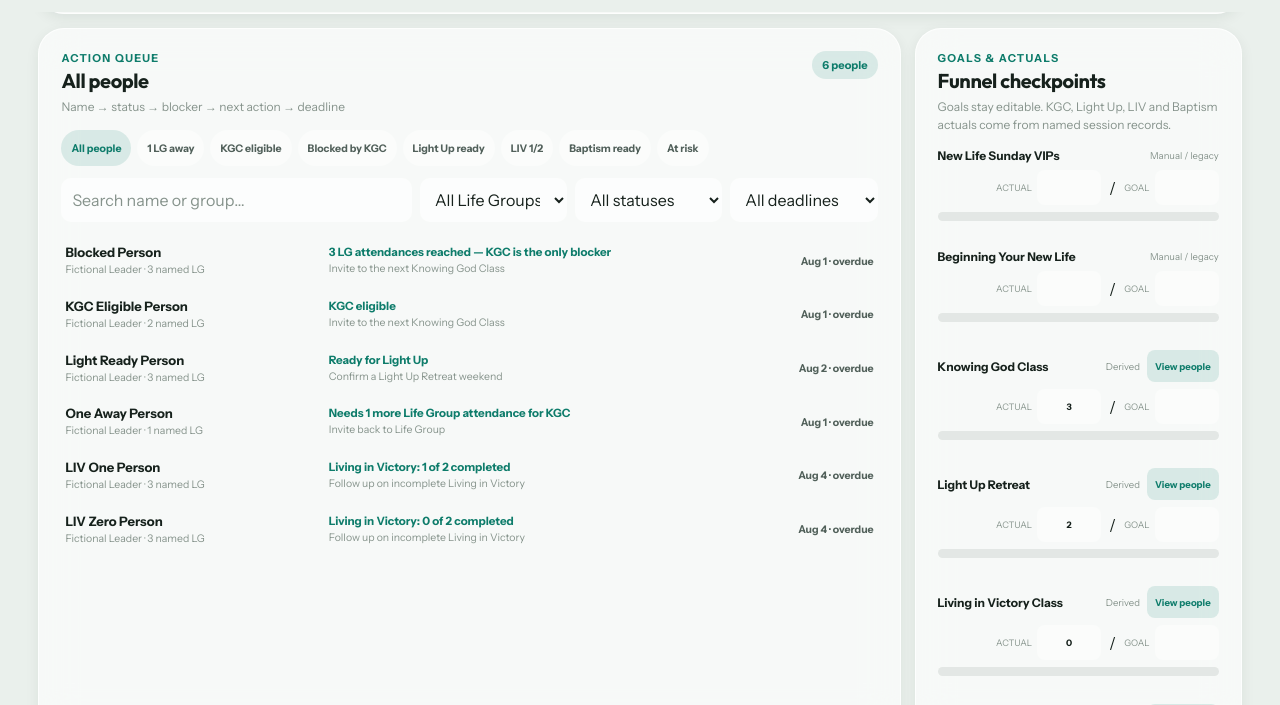
Test: CampaignPage › drills the LIV-incomplete total into both 0/2 and 1/2 people and clears stale search scope
(page scrolled)
Type "LIV One" into the search field named "search candidate". click: (237, 200)
box: [61,178,412,222]
(page scrolled)
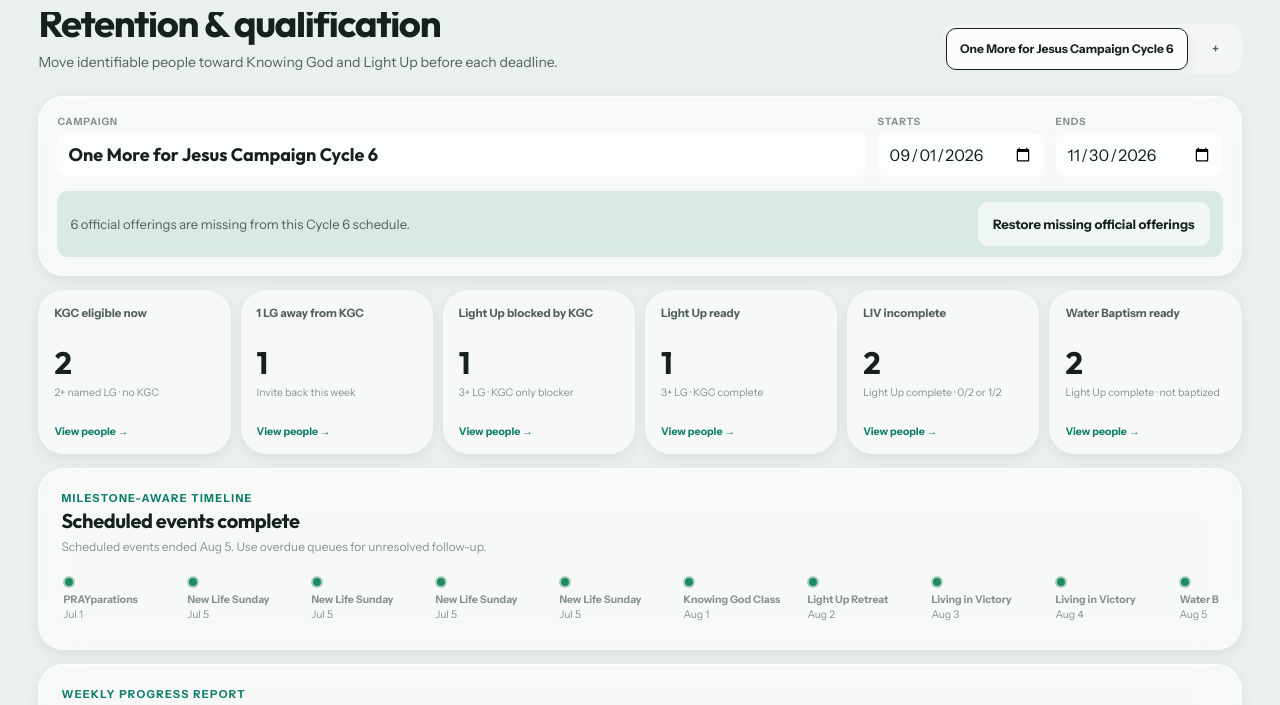
Now the button "LIV incomplete" shows "2"
Click the button "LIV incomplete". click: (943, 372)
box: [847,290,1039,454]
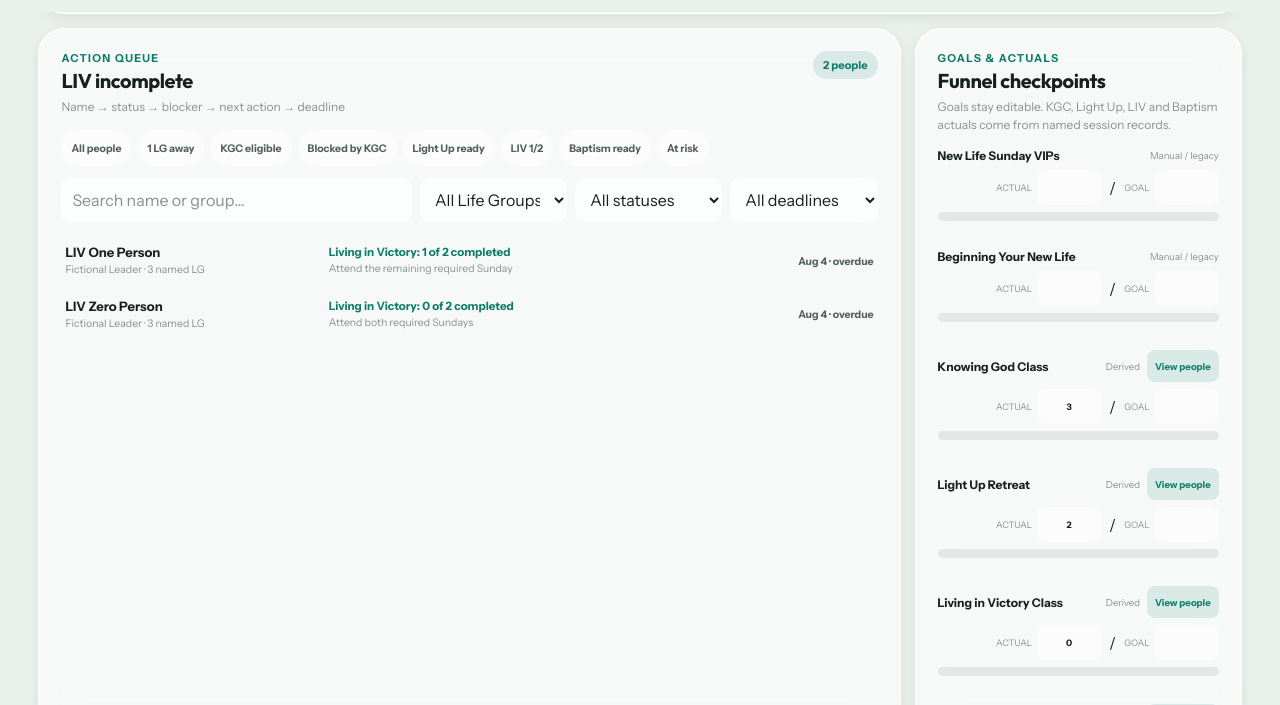
Now the search field named "search candidate" is empty, box [61,178,412,222]
Now the button "LIV One Person" is shown, box [61,234,878,288]
Now the button "LIV Zero Person" is shown, box [61,288,878,342]
